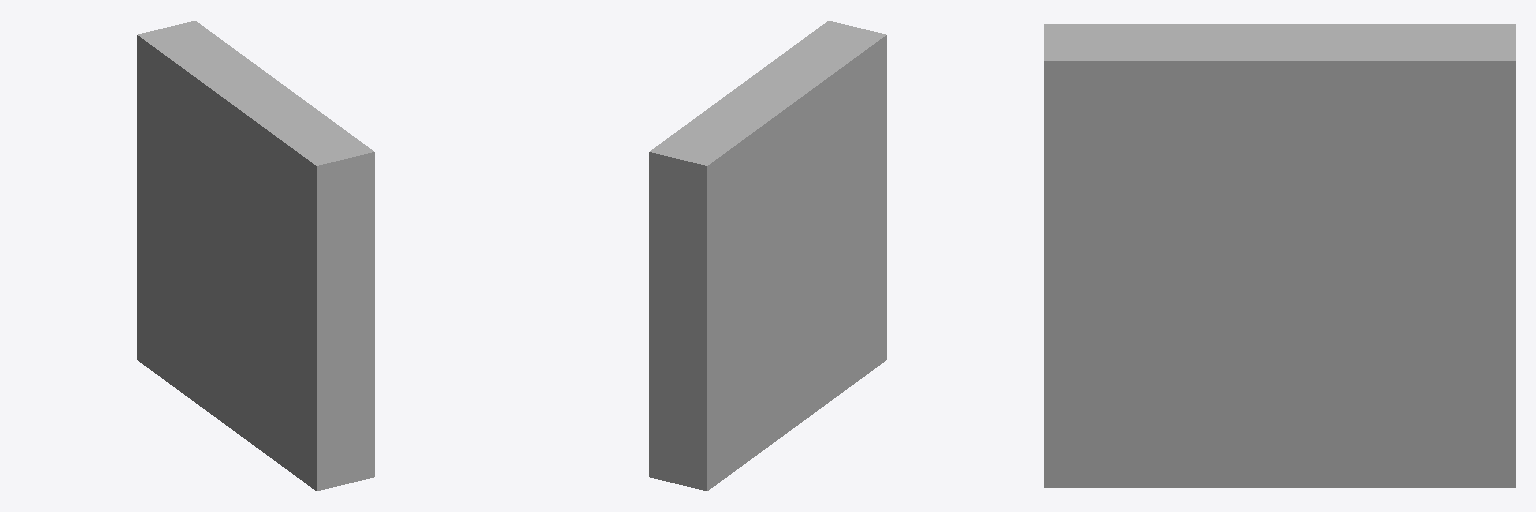
URDF robot description (robotiq_c_model):
<?xml version="1.0"?>

<robot name="robotiq_c_model">

  <link name="robotiq_85_adapter_link">
  <inertial>
    <mass value="10"/>
      <origin xyz="0 0 0" rpy="0 0 0"/>
      <inertia ixx="1" ixy="0" ixz="0" iyy="1" iyz="0" izz="1"/>
  </inertial>
  <visual>
    <geometry>
      <box size="0.064 0.064 0.012"/>
    </geometry>
    <material name="silver">
      <color rgba="0.7529 0.7529 0.7529 1"/>
    </material>
    <origin rpy="1.5707 0 1.5707" xyz="0 0 0"/>
  </visual>
   </link>
   
<!--   <link name="robotiq_85_adapter_link">
    <inertial>
      <mass value="10"/>
      <origin xyz="0 0 0" rpy="0 0 0"/>
      <inertia ixx="1" ixy="0" ixz="0" iyy="1" iyz="0" izz="1"/>
    </inertial>
    <visual>
      <geometry>
        <mesh filename="package://robotiq_c_model_visualization/meshes/robotiq_85_gripper_adapter_plate.dae"/>
      </geometry>
      <origin rpy="1.5707 0 1.5707" xyz="0 0 0"/>
    </visual>
  </link> -->

  <!--  /\  -->
  <joint name="robotiq_85_base_joint" type="fixed">
    <parent link="robotiq_85_adapter_link"/>
    <child link="robotiq_85_base_link"/>
    <axis xyz="1 0 0"/>
    <origin rpy="0 0 0" xyz=".0085 0 -.0041"/>
  </joint>
  <!--  \/  -->

  <link name="robotiq_85_base_link">
    <inertial>
      <mass value="10"/>
      <origin xyz="0 0 0" rpy="0 0 0"/>
      <inertia ixx="1" ixy="0" ixz="0" iyy="1" iyz="0" izz="1"/>
    </inertial>
    <visual>
      <geometry>
        <mesh filename="package://robotiq_c_model_visualization/meshes/robotiq_85_gripper_base.dae"/>
      </geometry>
      <origin rpy="3.1415 0 1.5707" xyz="0 0 0"/>
    </visual>
  </link>

  <!--  /\  -->
  <!--  /\  -->
  <joint name="robotiq_85_left_knuckle_joint" type="revolute">
    <parent link="robotiq_85_base_link"/>
    <child link="robotiq_85_left_knuckle_link"/>
    <axis xyz="1 0 0"/>
    <origin rpy="-1.5707 1.5707 0" xyz=".04191 .0306 0"/>
    <limit lower="0" upper=".8575" velocity="2.0" effort="1000"/>
  </joint>

  <joint name="robotiq_85_right_knuckle_joint" type="revolute">
    <parent link="robotiq_85_base_link"/>
    <child link="robotiq_85_right_knuckle_link"/>
    <axis xyz="1 0 0"/>
    <origin rpy="1.5707 -1.5707 0" xyz=".04191 -.0306 0"/>
    <limit lower="0" upper="1.5707" velocity="2.0" effort="1000"/>
    <mimic joint="robotiq_85_left_knuckle_joint" multiplier="1"/>
  </joint>
  <!--  \/  -->
  <!--  \/  -->

  <link name="robotiq_85_left_knuckle_link">
    <inertial>
      <mass value="10"/>
      <origin xyz="0 0 0" rpy="0 0 0"/>
      <inertia ixx="1" ixy="0" ixz="0" iyy="1" iyz="0" izz="1"/>
    </inertial>
    <visual>
      <geometry>
        <mesh filename="package://robotiq_c_model_visualization/meshes/robotiq_85_gripper_joint_0_L.dae"/>
      </geometry>
      <origin rpy="3.14159 -1.5707 0" xyz="0 .04191 -.0306"/>
    </visual>
  </link> 

  <link name="robotiq_85_right_knuckle_link">
    <inertial>
      <mass value="10"/>
      <origin xyz="0 0 0" rpy="0 0 0"/>
      <inertia ixx="1" ixy="0" ixz="0" iyy="1" iyz="0" izz="1"/>
    </inertial>
    <visual>
      <geometry>
        <mesh filename="package://robotiq_c_model_visualization/meshes/robotiq_85_gripper_joint_0_R.dae"/>
      </geometry>
      <origin rpy="3.14159 1.5707 0" xyz="0 .04191 -.0306"/>
    </visual>
  </link>

  <!--  /\  -->
  <!--  /\  -->
  <joint name="robotiq_85_left_finger_joint" type="fixed">
    <parent link="robotiq_85_left_knuckle_link"/>
    <child link="robotiq_85_left_finger_link"/>
    <axis xyz="1 0 0"/>
    <origin rpy="3.1415 0 0" xyz="0 .00508 .03134"/>
    <limit lower="0" upper="1.5707" velocity="2.0" effort="1000"/>
  </joint>

  <joint name="robotiq_85_right_finger_joint" type="fixed">
    <parent link="robotiq_85_right_knuckle_link"/>
    <child link="robotiq_85_right_finger_link"/>
    <axis xyz="1 0 0"/>
    <origin rpy="3.1415 0 0" xyz="0 .00508 .03134"/>
    <limit lower="0" upper="1.5707" velocity="2.0" effort="1000"/>
  </joint>
  <!--  \/  --> 
  <!--  \/  -->  

  <link name="robotiq_85_left_finger_link">
    <inertial>
      <mass value="10"/>
      <origin xyz="0 0 0" rpy="0 0 0"/>
      <inertia ixx="1" ixy="0" ixz="0" iyy="1" iyz="0" izz="1"/>
    </inertial>
    <visual>
      <geometry>
        <mesh filename="package://robotiq_c_model_visualization/meshes/robotiq_85_gripper_joint_1_L.dae"/>
      </geometry>
      <origin rpy="0 1.5707 0" xyz="0 -.03683 .06194"/>
    </visual>
  </link> 

  <link name="robotiq_85_right_finger_link">
    <inertial>
      <mass value="10"/>
      <origin xyz="0 0 0" rpy="0 0 0"/>
      <inertia ixx="1" ixy="0" ixz="0" iyy="1" iyz="0" izz="1"/>
    </inertial>
    <visual>
      <geometry>
        <mesh filename="package://robotiq_c_model_visualization/meshes/robotiq_85_gripper_joint_1_R.dae"/>
      </geometry>
      <origin rpy="0 -1.5707 0" xyz="0 -.03683 .06194"/>
    </visual>
  </link> 

  <!--  /\  -->
  <!--  /\  -->
  <joint name="robotiq_85_left_inner_knuckle_joint" type="revolute">
    <parent link="robotiq_85_base_link"/>
    <child link="robotiq_85_left_inner_knuckle_link"/>
    <axis xyz="1 0 0"/>
    <origin rpy="1.5707 1.5707 0" xyz=".04843 .0127 0"/>
    <limit lower="0" upper="1.5707" velocity="2.0" effort="1000"/>
    <mimic joint="robotiq_85_left_knuckle_joint" offset="0"/>
  </joint> 

  <joint name="robotiq_85_right_inner_knuckle_joint" type="revolute">
    <parent link="robotiq_85_base_link"/>
    <child link="robotiq_85_right_inner_knuckle_link"/>
    <axis xyz="1 0 0"/>
    <origin rpy="-1.5707 -1.5707 0" xyz=".04843 -.0127 0"/>
    <limit lower="0" upper="1.5707" velocity="2.0" effort="1000"/>
    <mimic joint="robotiq_85_left_knuckle_joint" offset="0"/>
  </joint>
  <!--  \/  --> 
  <!--  \/  -->  

  <link name="robotiq_85_left_inner_knuckle_link">
    <inertial>
      <mass value="10"/>
      <origin xyz="0 0 0" rpy="0 0 0"/>
      <inertia ixx="1" ixy="0" ixz="0" iyy="1" iyz="0" izz="1"/>
    </inertial>
    <visual>
      <geometry>
        <mesh filename="package://robotiq_c_model_visualization/meshes/robotiq_85_gripper_joint_2_L.dae"/>
      </geometry>
      <origin rpy="0 1.5707 0" xyz="0 -.04843 .0127"/>
    </visual>
  </link>

  <link name="robotiq_85_right_inner_knuckle_link">
    <inertial>
      <mass value="10"/>
      <origin xyz="0 0 0" rpy="0 0 0"/>
      <inertia ixx="1" ixy="0" ixz="0" iyy="1" iyz="0" izz="1"/>
    </inertial>
    <visual>
      <geometry>
        <mesh filename="package://robotiq_c_model_visualization/meshes/robotiq_85_gripper_joint_2_R.dae"/>
      </geometry>
      <origin rpy="0 -1.5707 0" xyz="0 -.04843 .0127"/>
    </visual>
  </link>

  <!--  /\  -->
  <!--  /\  -->
  <joint name="robotiq_85_left_finger_tip_joint" type="revolute">
    <parent link="robotiq_85_left_inner_knuckle_link"/>
    <child link="robotiq_85_left_finger_tip_link"/>
    <axis xyz="1 0 0"/>
    <origin rpy="0 0 0" xyz="0 .04196 -.0388"/>
    <limit lower="0" upper="1.5707" velocity="2.0" effort="1000"/>
    <mimic joint="robotiq_85_left_knuckle_joint" multiplier="-1"/>
  </joint>

  <joint name="robotiq_85_right_finger_tip_joint" type="revolute">
    <parent link="robotiq_85_right_inner_knuckle_link"/>
    <child link="robotiq_85_right_finger_tip_link"/>
    <axis xyz="1 0 0"/>
    <origin rpy="0 0 0" xyz="0 .04196 -.0388"/>
    <limit lower="0" upper="1.5707" velocity="2.0" effort="1000"/>
    <mimic joint="robotiq_85_left_knuckle_joint" multiplier="-1"/>
  </joint>
  <!--  \/  --> 
  <!--  \/  -->  

  <link name="robotiq_85_left_finger_tip_link">
    <inertial>
      <mass value="10"/>
      <origin xyz="0 0 0" rpy="0 0 0"/>
      <inertia ixx="1" ixy="0" ixz="0" iyy="1" iyz="0" izz="1"/>
    </inertial>
    <visual>
      <geometry>
        <mesh filename="package://robotiq_c_model_visualization/meshes/robotiq_85_gripper_joint_3_L.dae"/>
      </geometry>
      <origin rpy="0 1.5707 0" xyz="0 -.090381 .051505"/>
    </visual>
  </link> 

  <link name="robotiq_85_right_finger_tip_link">
    <inertial>
      <mass value="10"/>
      <origin xyz="0 0 0" rpy="0 0 0"/>
      <inertia ixx="1" ixy="0" ixz="0" iyy="1" iyz="0" izz="1"/>
    </inertial>
    <visual>
      <geometry>
        <mesh filename="package://robotiq_c_model_visualization/meshes/robotiq_85_gripper_joint_3_R.dae"/>
      </geometry>
      <origin rpy="0 -1.5707 0" xyz="0 -.090381 .051505"/>
    </visual>
  </link>

</robot>

--- Facts derived from the render (not from the file) ---
The picture shows the robot from 3 angles, left to right: view 1: azimuth 30°, elevation 25°; view 2: azimuth 150°, elevation 25°; view 3: azimuth 270°, elevation 25°; orthographic projection.
Robot: robotiq_c_model — 10 links, 9 joints (6 revolute, 3 fixed); root link robotiq_85_adapter_link; default pose: every joint at zero.
Visible links, largest first — view 1: robotiq_85_adapter_link; view 2: robotiq_85_adapter_link; view 3: robotiq_85_adapter_link.
Link boxes in pixels (bbox=[...]): robotiq_85_adapter_link: bbox=[137, 21, 374, 490]; robotiq_85_adapter_link: bbox=[649, 21, 886, 490]; robotiq_85_adapter_link: bbox=[1044, 24, 1515, 487].
Bounding box of the posed robot: 0.012 × 0.064 × 0.064 m (x, y, z).
Meshes: 9 distinct files referenced, 0 mesh visuals loaded (none loaded); not drawn: 9 (reference not matched to a file when rendering).